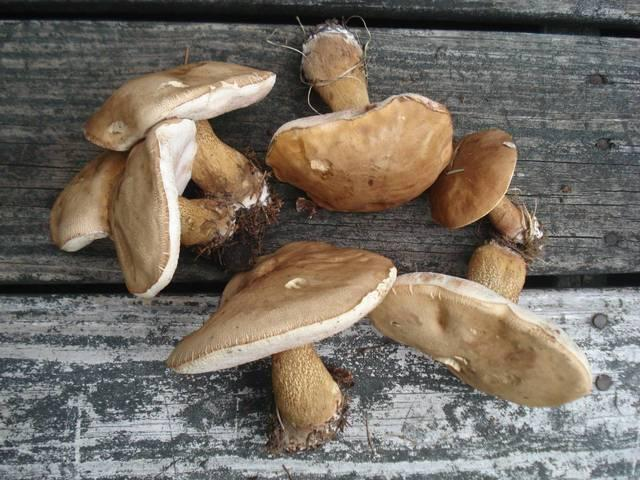Non-edible Mushroom: (254, 13, 543, 257), (48, 58, 277, 298), (164, 238, 397, 452), (369, 269, 593, 408)
